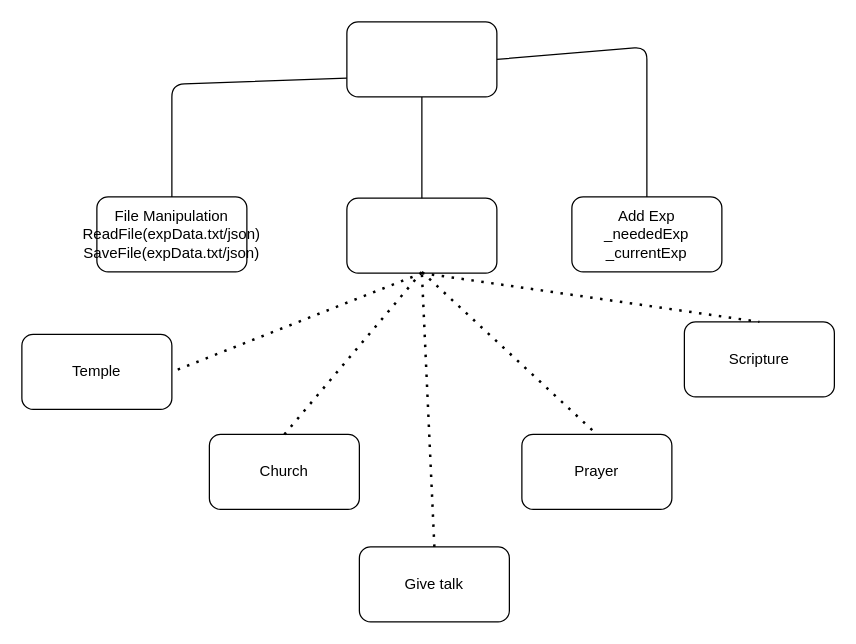
Image size: 856x644. Some labels were removed from this diagram. The centre of each missing label's shape, as x and y in pixels:
Activity _newExp _currentExp: (x=421, y=235)
Main: (x=421, y=59)
